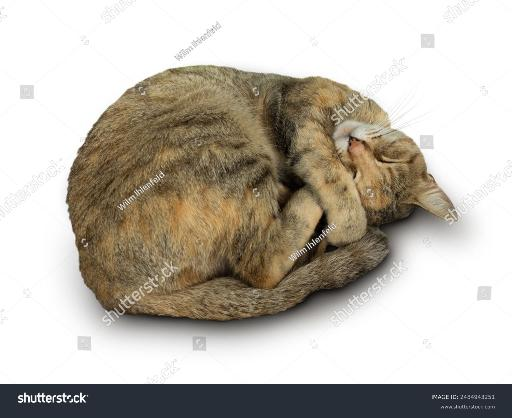cat_sleeping: (66, 66, 454, 321)
